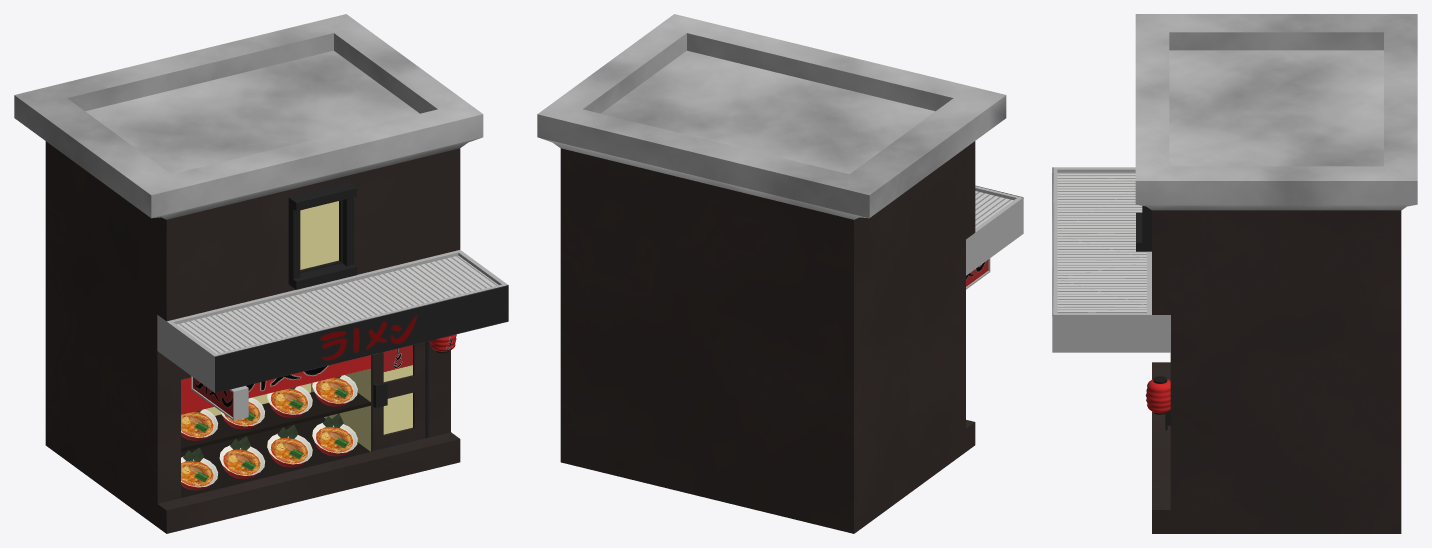
The model's file is RamenBuilding.FBX.
3 views of the same model, side by side, from view 1: azimuth 30°, elevation 25°; view 2: azimuth 150°, elevation 25°; view 3: azimuth 270°, elevation 25° (orthographic). The views are drawn at different scales.
Parts seen in each view (by area): view 1: Box001, Box003, mirror, Cylinder006, Cylinder009, Cylinder008, Box002, Cylinder007, Cylinder005, Cylinder002, Cylinder003, Cylinder004; view 2: Box001; view 3: Box001, Cylinder001.
Boxes of the visible parts, bbox=[...] form: Box001: bbox=[14, 14, 508, 533]; Box003: bbox=[181, 392, 370, 451]; mirror: bbox=[181, 355, 370, 414]; Cylinder006: bbox=[312, 413, 357, 456]; Cylinder009: bbox=[267, 424, 312, 467]; Cylinder008: bbox=[219, 436, 265, 478]; Box002: bbox=[191, 376, 248, 420]; Cylinder007: bbox=[181, 447, 217, 490]; Cylinder005: bbox=[267, 386, 312, 417]; Cylinder002: bbox=[312, 375, 357, 406]; Cylinder003: bbox=[181, 409, 218, 440]; Cylinder004: bbox=[220, 397, 264, 429]; Box001: bbox=[537, 14, 1023, 533]; Box001: bbox=[1052, 14, 1417, 533]; Cylinder001: bbox=[1145, 376, 1170, 414].
Bounding box in the file's own units: 624 × 628 × 577.
Materials: 6 (6 with a texture image).
